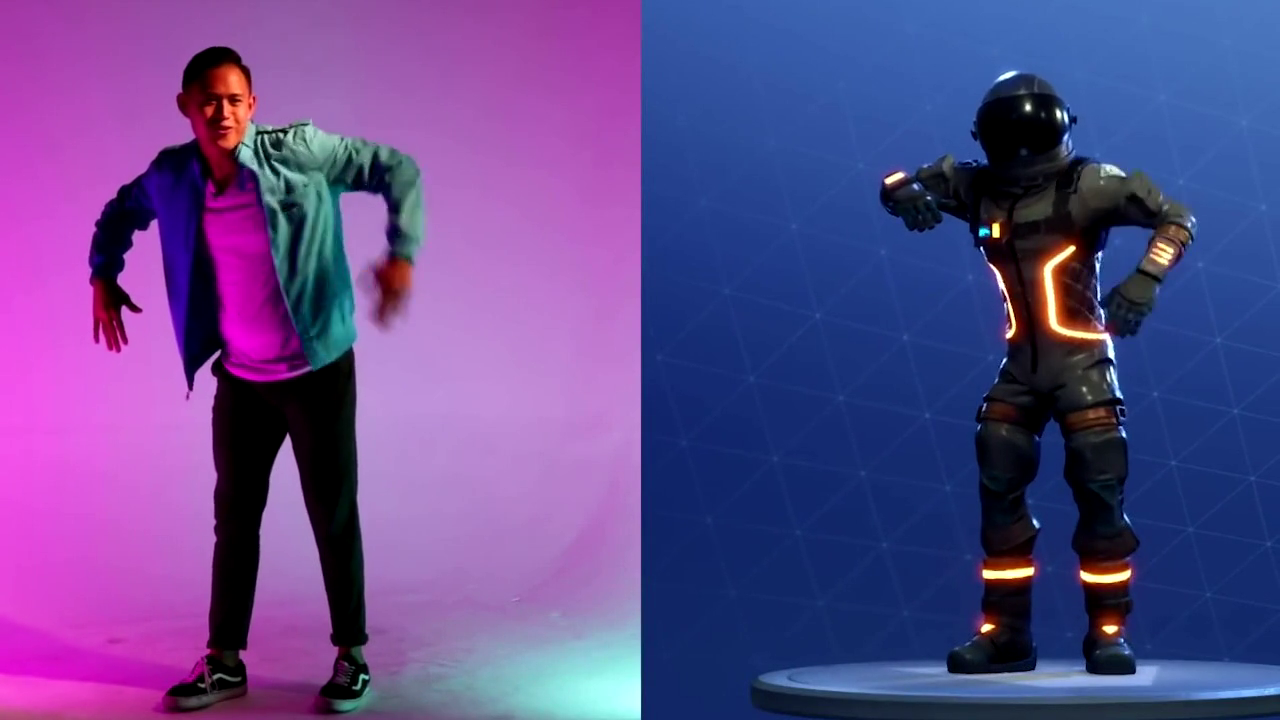Head: (175, 36, 257, 166)
Hip: (186, 327, 399, 458)
LeftAnkle: (298, 612, 407, 717)
LeftElbow: (366, 134, 445, 219)
LeftKnee: (291, 471, 387, 557)
LeftShoulder: (250, 115, 358, 191)
LeftWrist: (353, 252, 456, 340)
RightAnkle: (156, 624, 272, 714)
RightElbow: (80, 176, 158, 256)
RightKnee: (198, 485, 271, 563)
RightShoulder: (133, 129, 224, 204)
RightWrist: (75, 267, 158, 360)
Torso: (160, 149, 359, 373)
